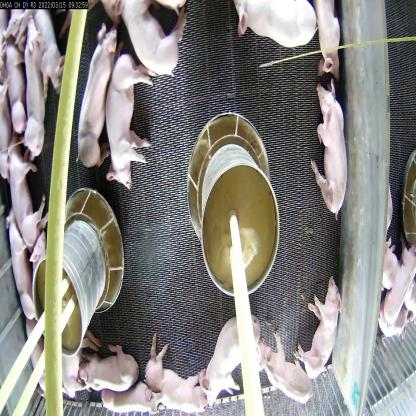Pig: (104, 49, 153, 192), (196, 307, 262, 401), (312, 76, 352, 222), (118, 0, 194, 76), (76, 27, 115, 166), (2, 137, 46, 255), (231, 0, 321, 55), (297, 275, 343, 380), (13, 15, 47, 152), (259, 333, 315, 408), (75, 340, 139, 400), (5, 209, 33, 320), (155, 357, 208, 415), (97, 376, 166, 415)
